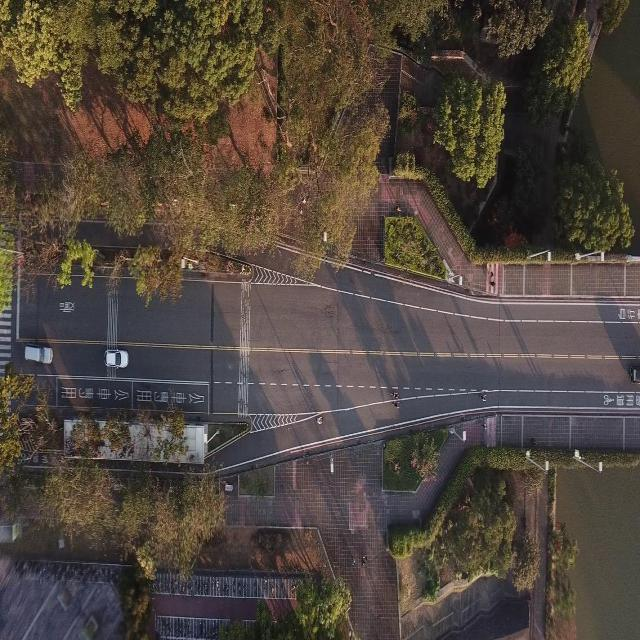bike: (390, 389, 403, 400), (313, 415, 327, 425), (391, 401, 404, 409), (478, 391, 487, 402)
car: (23, 343, 54, 366), (105, 347, 129, 372)
